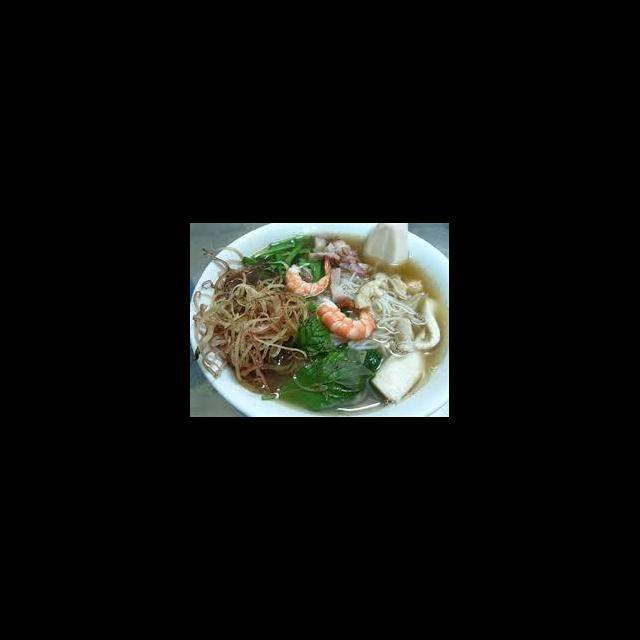bun: (326, 287, 431, 353), (339, 269, 368, 300)
ca: (368, 343, 429, 407), (412, 295, 442, 355)
thit heo quay: (328, 266, 358, 312), (306, 248, 344, 264)
tom: (314, 295, 378, 342), (282, 252, 334, 298)
